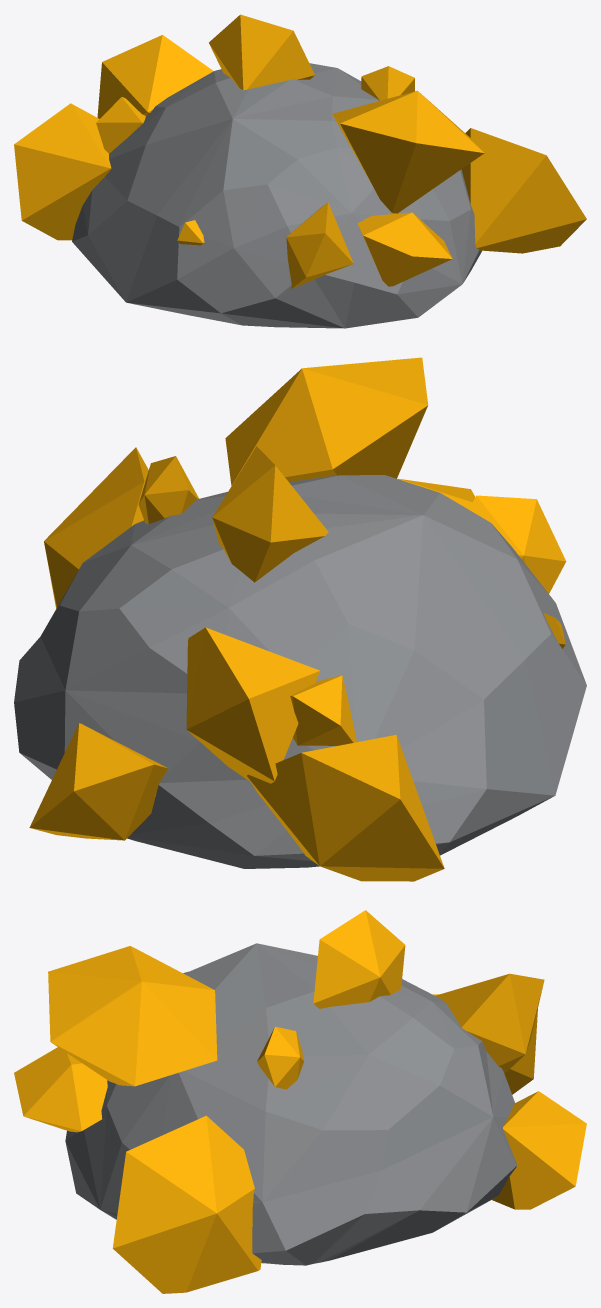
File: CutGemsVar1.fbx
3 renders of one model, top to bottom at view 1: azimuth 30°, elevation 25°; view 2: azimuth 150°, elevation 25°; view 3: azimuth 270°, elevation 25°, orthographic. The views are drawn at different scales.
Parts seen in each view (by area): view 1: CutGemsVar1Granite; view 2: CutGemsVar1Granite; view 3: CutGemsVar1Granite.
Part boxes in pixels (bbox=[...]): CutGemsVar1Granite: bbox=[14, 14, 586, 328]; CutGemsVar1Granite: bbox=[14, 357, 586, 881]; CutGemsVar1Granite: bbox=[14, 910, 586, 1293].
Size of the model in its own units: 202 by 107 by 217.
